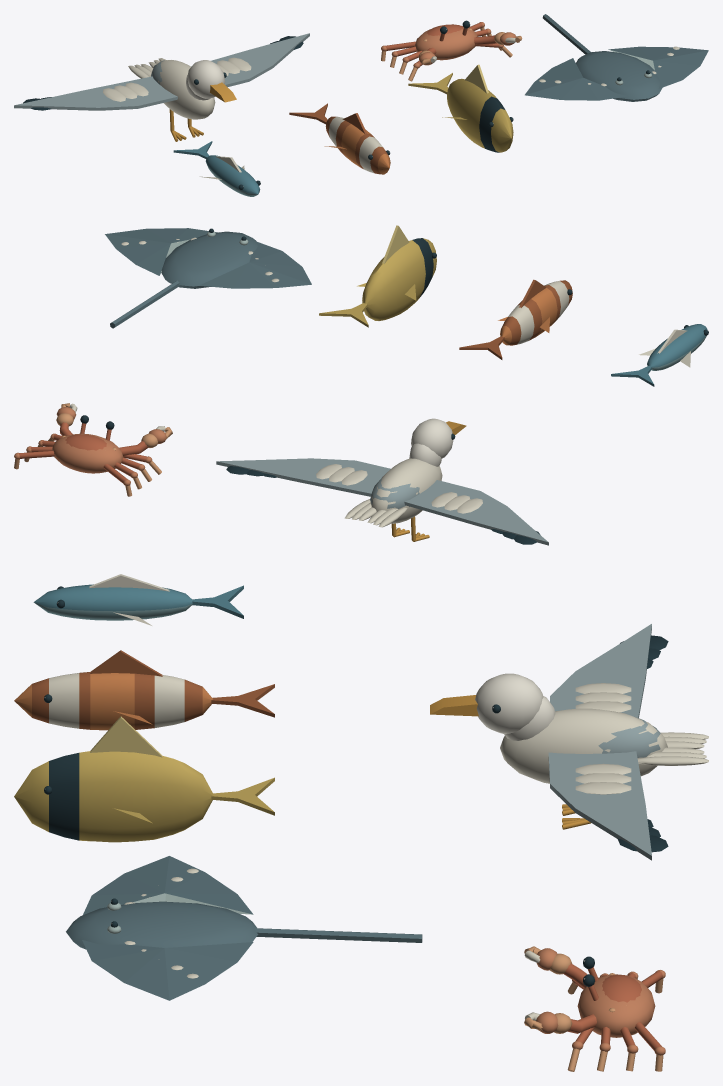
File: OceanWildlife.fbx
3 views of the same model, one above another, from view 1: azimuth 30°, elevation 25°; view 2: azimuth 150°, elevation 25°; view 3: azimuth 270°, elevation 25° (orthographic). The views are drawn at different scales.
Visible parts, largest first — view 1: SpottedRay, Seagull Body, Butterflyfish, Shore Crab, Seagull Left Wing, Clownfish, Seagull Right Wing, SilverMinnow; view 2: SpottedRay, Seagull Body, Shore Crab, Butterflyfish, Seagull Left Wing, Seagull Right Wing, Clownfish, SilverMinnow; view 3: SpottedRay, Butterflyfish, Seagull Body, Clownfish, Shore Crab, Seagull Right Wing, SilverMinnow, Seagull Left Wing.
Part boxes in pixels (x1,y1,x2,y2): SpottedRay: [525, 14, 708, 101]; Seagull Body: [128, 58, 236, 141]; Butterflyfish: [408, 64, 513, 152]; Shore Crab: [381, 20, 522, 81]; Seagull Left Wing: [14, 76, 177, 110]; Clownfish: [289, 103, 390, 174]; Seagull Right Wing: [191, 33, 309, 87]; SilverMinnow: [173, 141, 260, 196]; SpottedRay: [105, 228, 311, 328]; Seagull Body: [344, 418, 466, 541]; Shore Crab: [14, 403, 172, 496]; Butterflyfish: [319, 225, 436, 327]; Seagull Left Wing: [404, 480, 548, 545]; Seagull Right Wing: [216, 458, 390, 496]; Clownfish: [459, 279, 572, 359]; SilverMinnow: [611, 324, 708, 386]; SpottedRay: [66, 856, 422, 1000]; Butterflyfish: [14, 716, 274, 842]; Seagull Body: [430, 673, 708, 829]; Clownfish: [14, 650, 274, 730]; Shore Crab: [524, 946, 665, 1071]; Seagull Right Wing: [548, 751, 668, 860]; SilverMinnow: [33, 574, 243, 625]; Seagull Left Wing: [550, 624, 668, 718].
Size of the model in its own units: 313 by 75.49 by 215.
